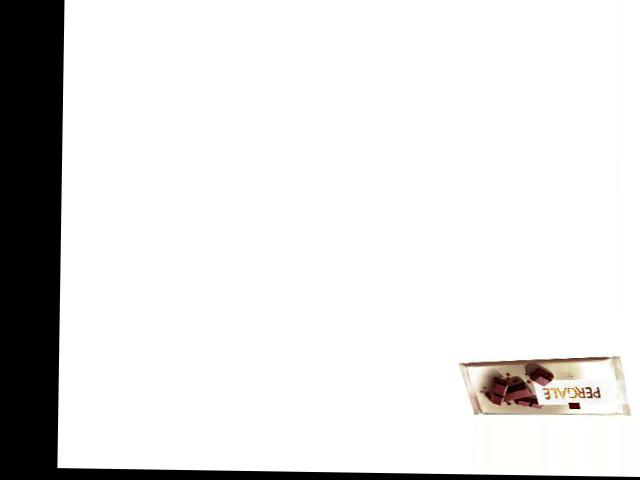chocolate: (455, 355, 633, 416)
